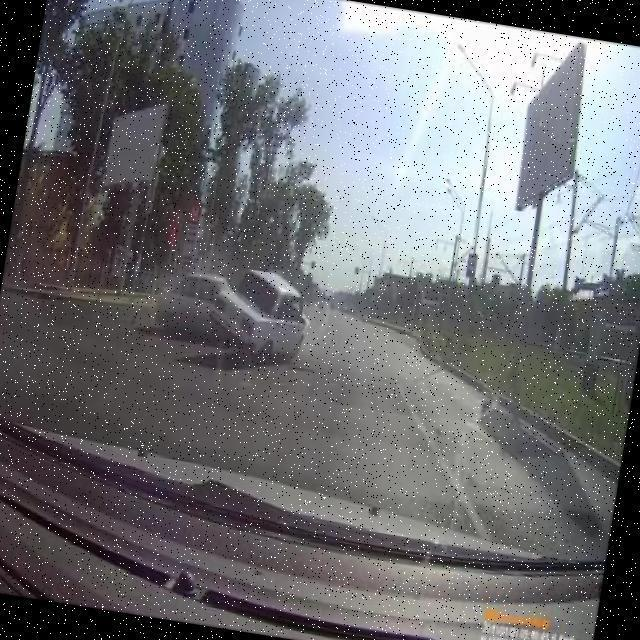accident: (146, 252, 322, 371)
